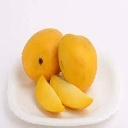mango: (19, 28, 67, 80)
